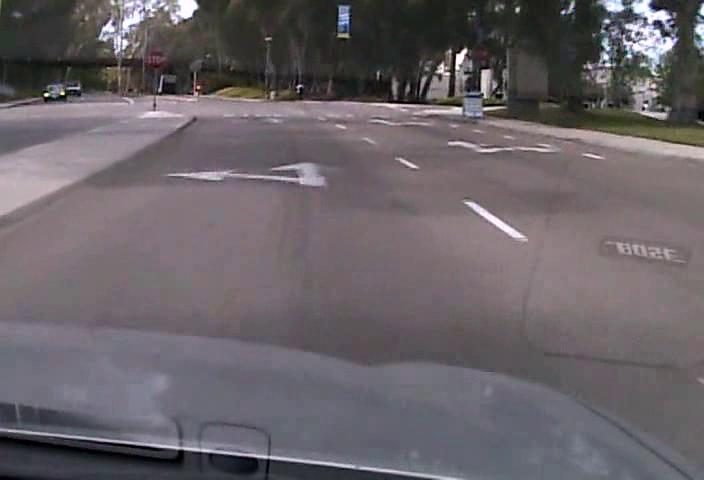stop: (144, 49, 167, 69)
